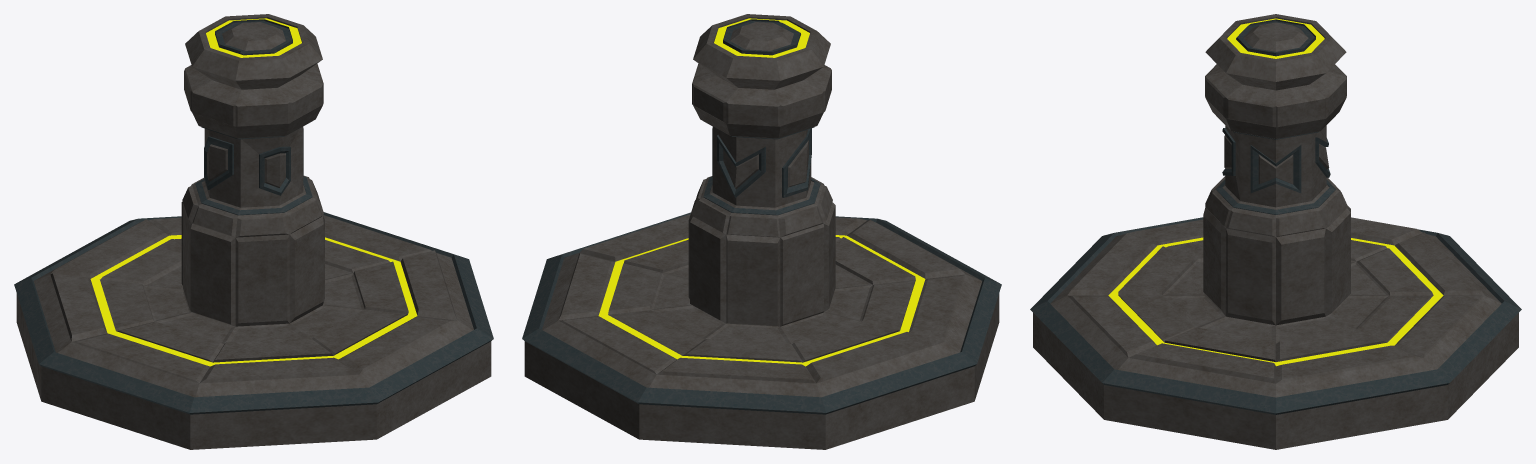
File: StonePillar.fbx
3 views of the same model, side by side, from view 1: azimuth 30°, elevation 25°; view 2: azimuth 150°, elevation 25°; view 3: azimuth 270°, elevation 25° (orthographic).
Parts seen in each view (by area): view 1: StonePillar; view 2: StonePillar; view 3: StonePillar.
Part boxes in pixels (bbox=[...]): StonePillar: bbox=[14, 14, 493, 449]; StonePillar: bbox=[522, 14, 1001, 449]; StonePillar: bbox=[1030, 14, 1521, 449].
Size of the model in its own units: 506 by 357 by 506.
